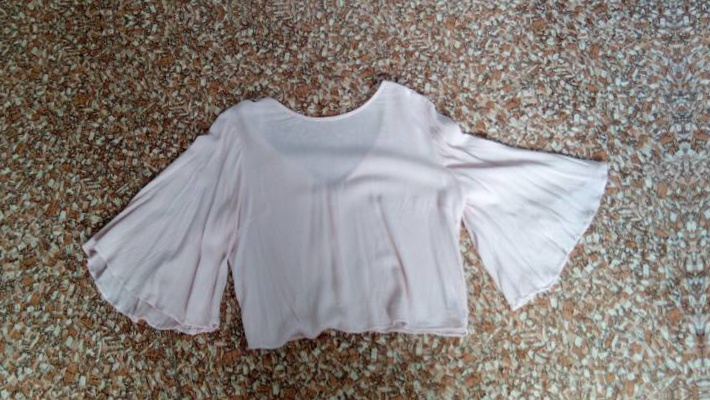Blouse: (70, 34, 648, 390)
